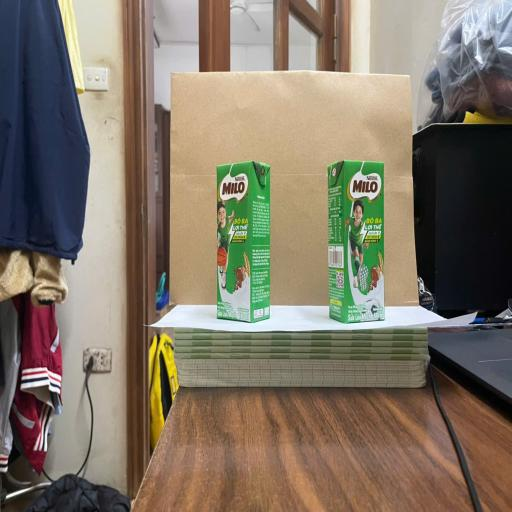milo: (328, 158, 384, 324), (217, 160, 272, 322)
